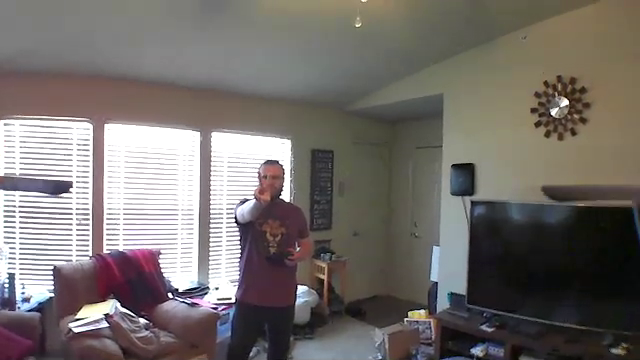peace: (250, 165, 276, 205)
